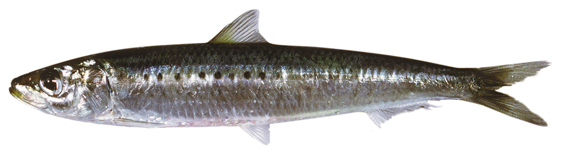fish: (9, 9, 552, 147)
